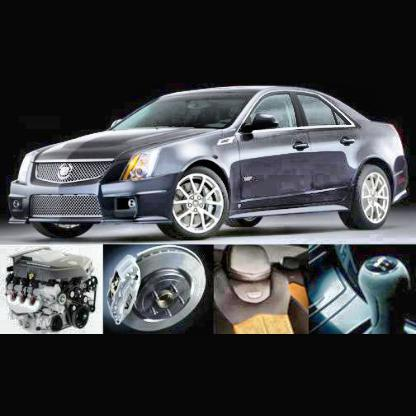Cadillac CTS-V Sedan 2012: (7, 84, 411, 244)
